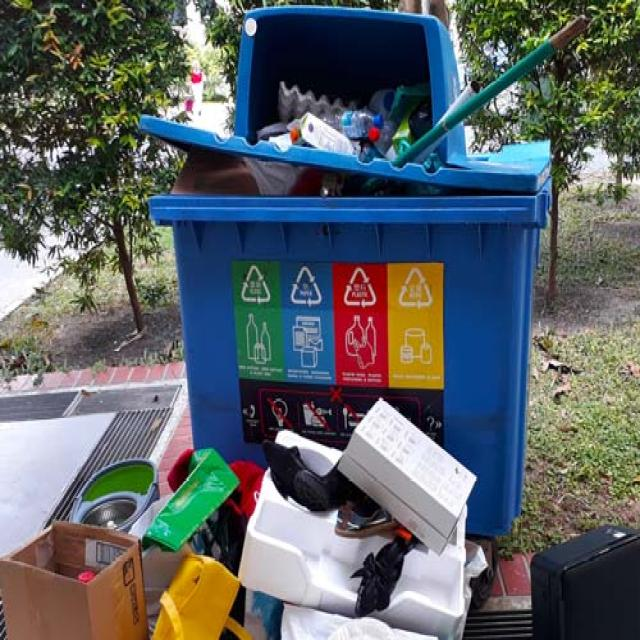bin_full: (144, 10, 550, 532)
bulk_waste: (350, 390, 476, 540), (0, 519, 148, 636), (254, 444, 350, 598), (531, 525, 639, 639), (156, 440, 232, 554), (396, 546, 490, 634), (158, 544, 244, 640), (208, 502, 248, 572)
normal_waste: (340, 109, 380, 139), (367, 86, 397, 121), (316, 109, 342, 139), (282, 117, 308, 147), (376, 118, 396, 154)
